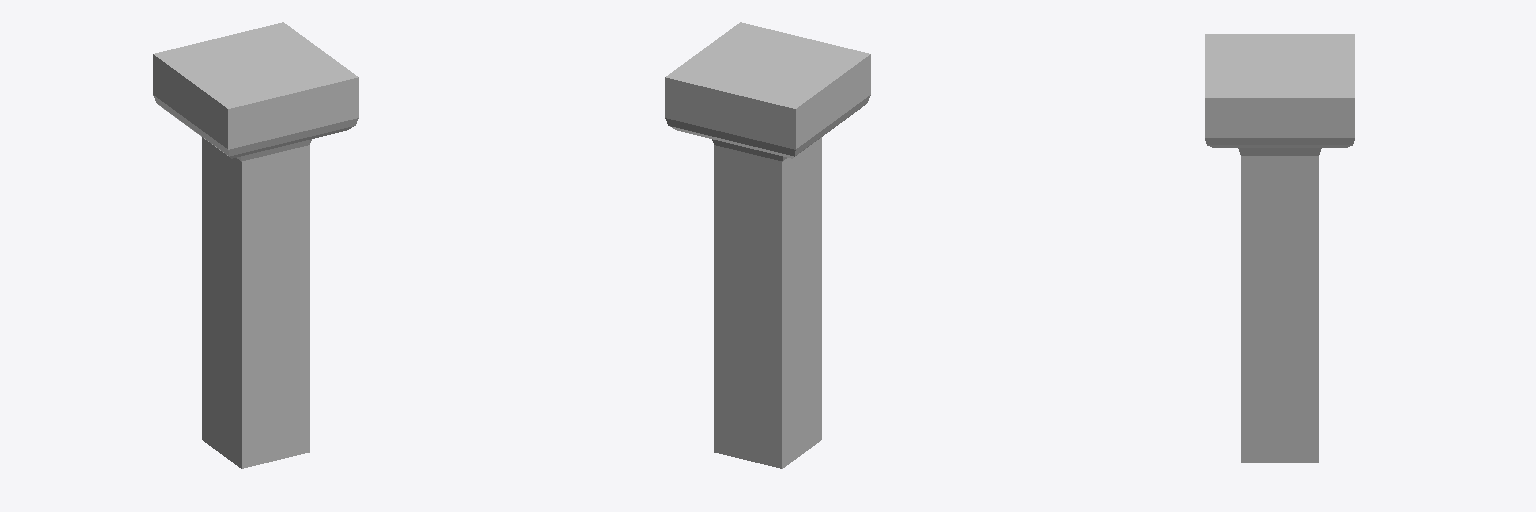
Rendered from pillar.obj.
3 views of the same model, side by side, from view 1: azimuth 30°, elevation 25°; view 2: azimuth 150°, elevation 25°; view 3: azimuth 270°, elevation 25° (orthographic).
Visible parts, largest first — view 1: Top, Middle, Base; view 2: Top, Middle, Base; view 3: Top, Middle, Base.
Boxes of the visible parts, <box> form: Top: <box>153,22,358,239</box>; Middle: <box>202,212,309,369</box>; Base: <box>202,342,309,468</box>; Top: <box>665,22,870,239</box>; Middle: <box>714,212,821,369</box>; Base: <box>714,342,821,468</box>; Top: <box>1205,34,1354,233</box>; Middle: <box>1241,234,1318,363</box>; Base: <box>1241,364,1318,462</box>.
Size of the model in its own units: 1.8 by 5.02 by 1.8.